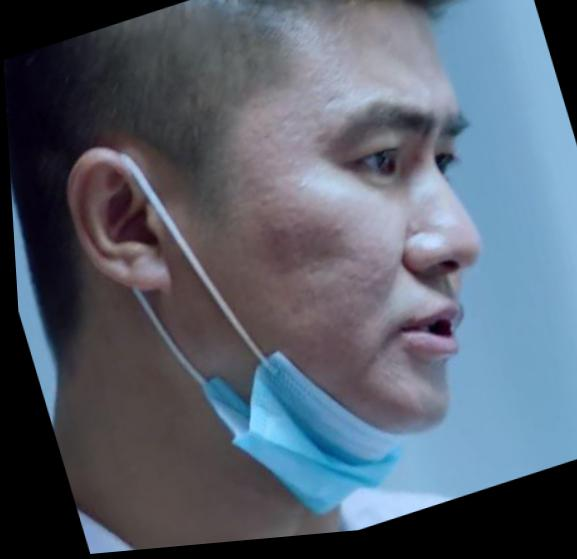WRONG: (166, 38, 544, 497)
